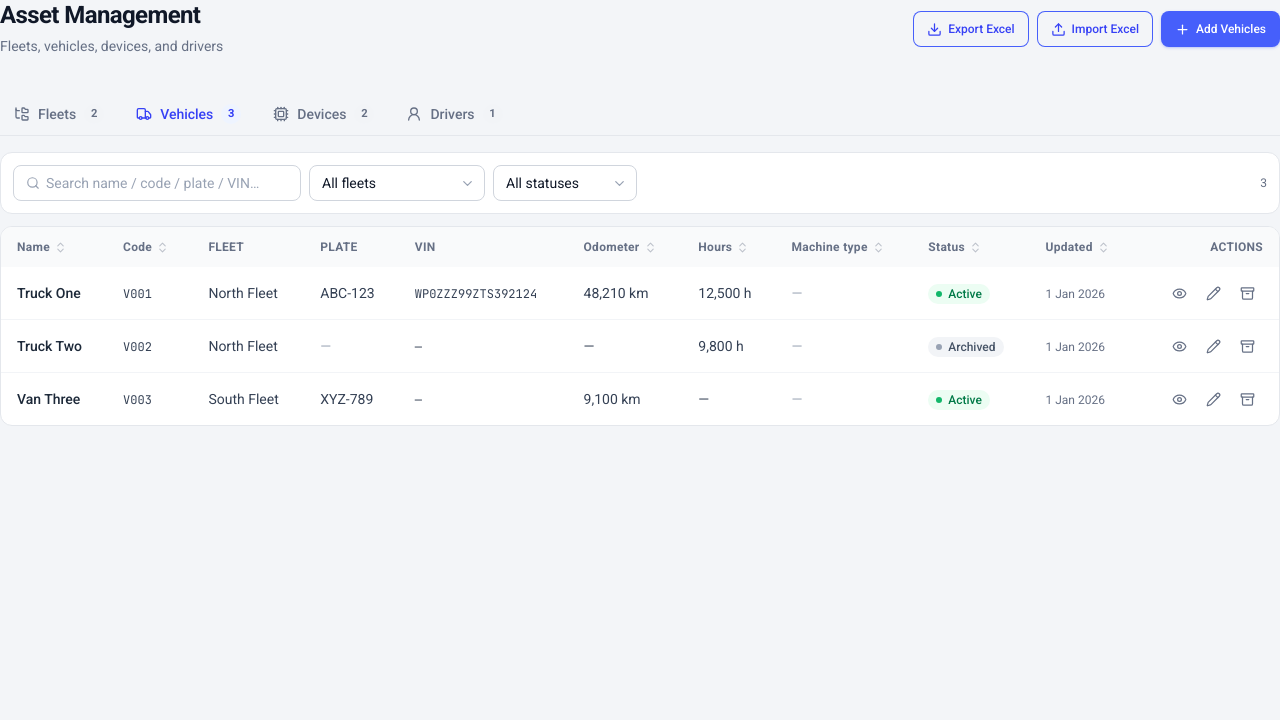
AssetManagementPage › opens the Excel import dialog from the vehicles tab
The image size is (1280, 720).
Expected: the text "Truck One" is shown, [17, 285, 81, 301]
Click the button "Import Excel" at (1095, 29), box [1037, 11, 1153, 47]
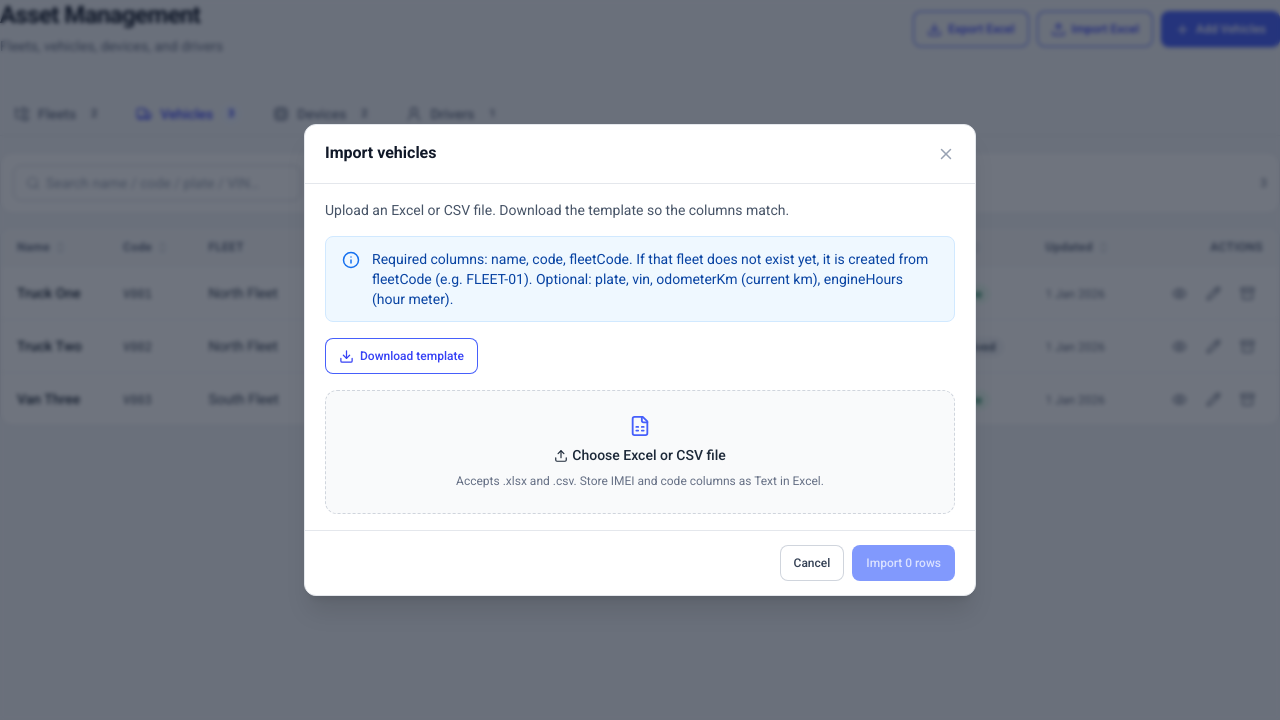
Now the heading "Import vehicles" is shown, box [325, 141, 436, 165]
Now the button "Download template" is shown, box [325, 338, 478, 374]
